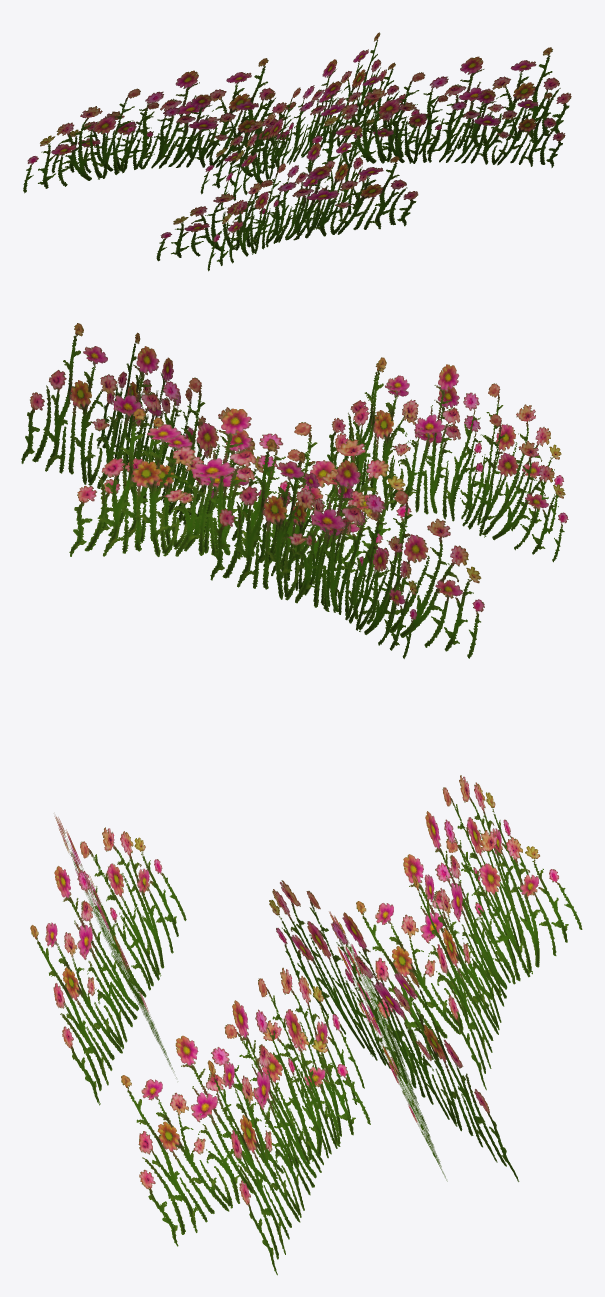
Rendered from 10101_glass02.FBX.
The picture shows the model from 3 angles, top to bottom: view 1: azimuth 30°, elevation 25°; view 2: azimuth 150°, elevation 25°; view 3: azimuth 270°, elevation 25°; orthographic projection. The views are drawn at different scales.
Parts seen in each view (by area): view 1: 10101_glass02; view 2: 10101_glass02; view 3: 10101_glass02.
Part boxes in pixels (x1,y1,x2,y2): 10101_glass02: (23, 32, 571, 271); 10101_glass02: (21, 323, 568, 658); 10101_glass02: (30, 775, 582, 1275).
Bounding box in the file's own units: 675 × 160 × 417.
